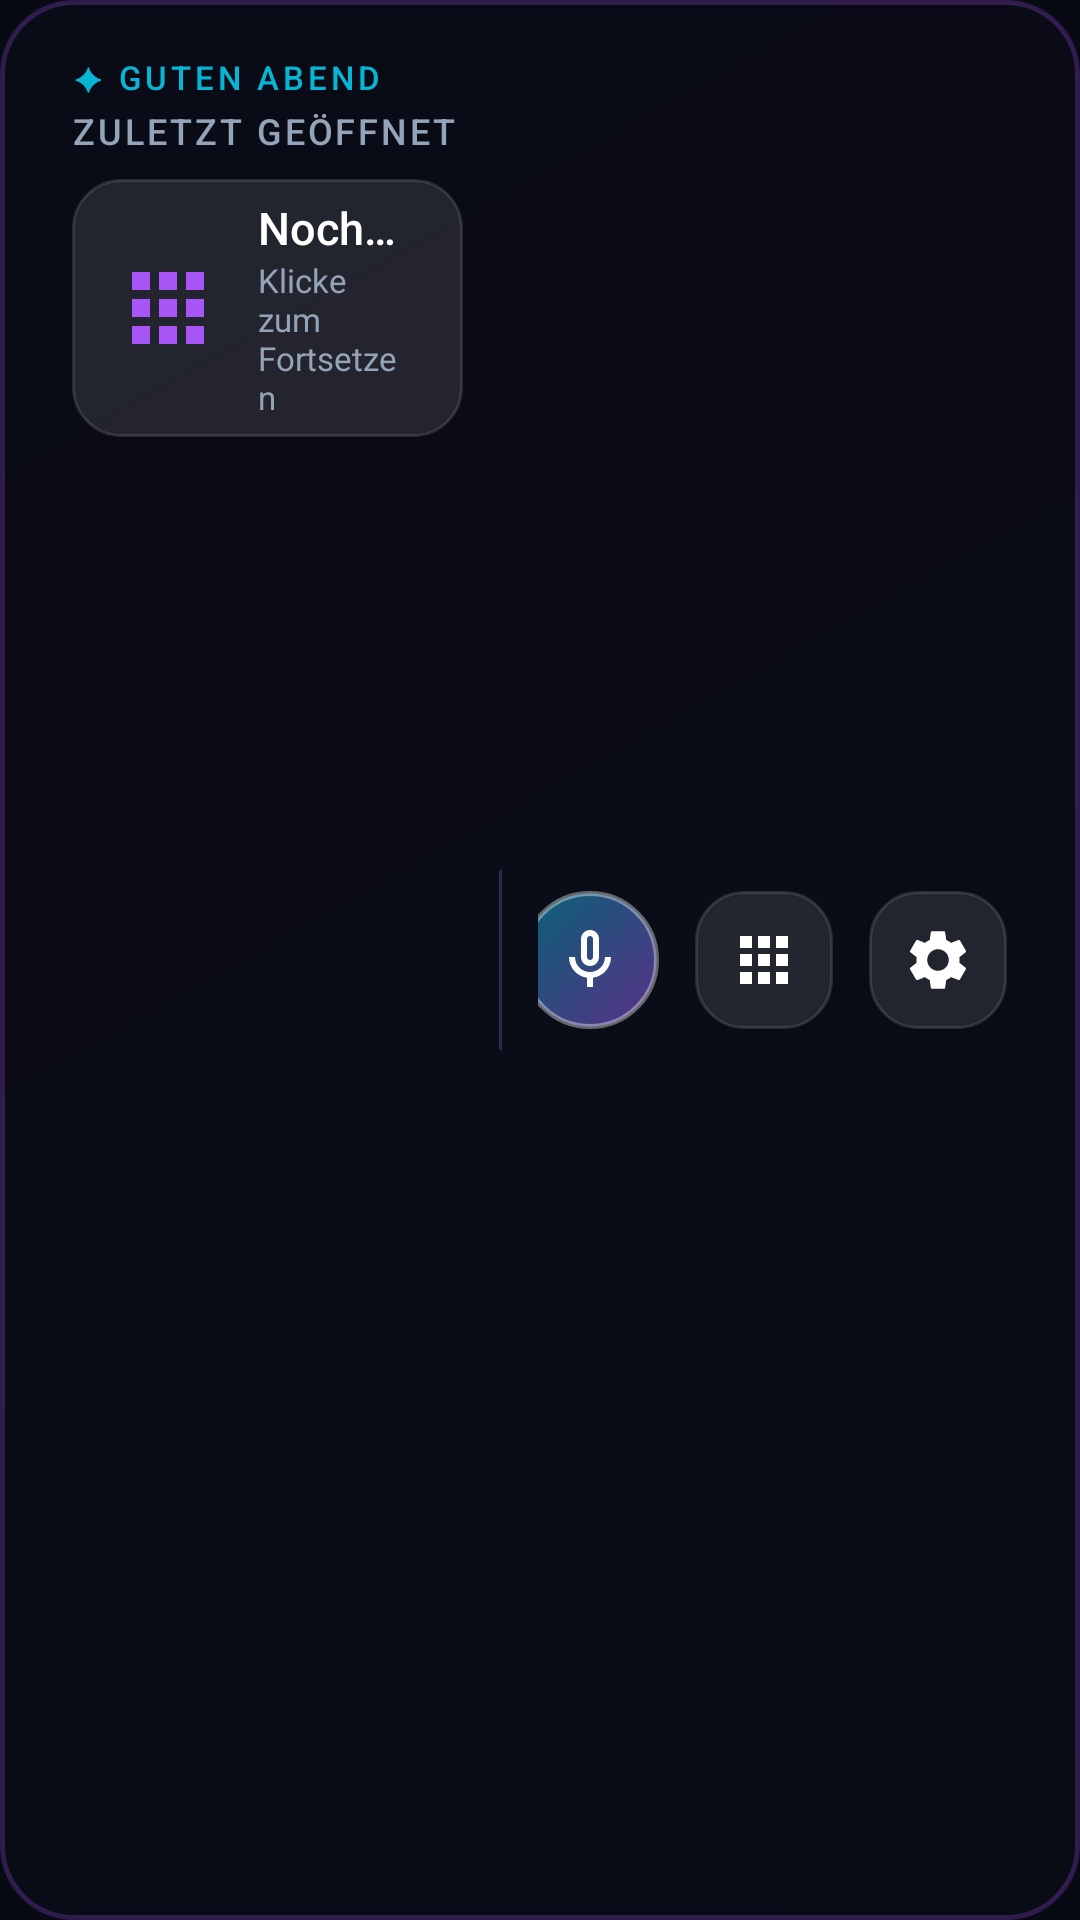

Icon click points for this 1080w x 1920h phone screenshot, format (x=x, y=y):
App Drawer: (x=764, y=960)
Einstellungen: (x=938, y=960)
Sprachsuche: (x=590, y=958)
